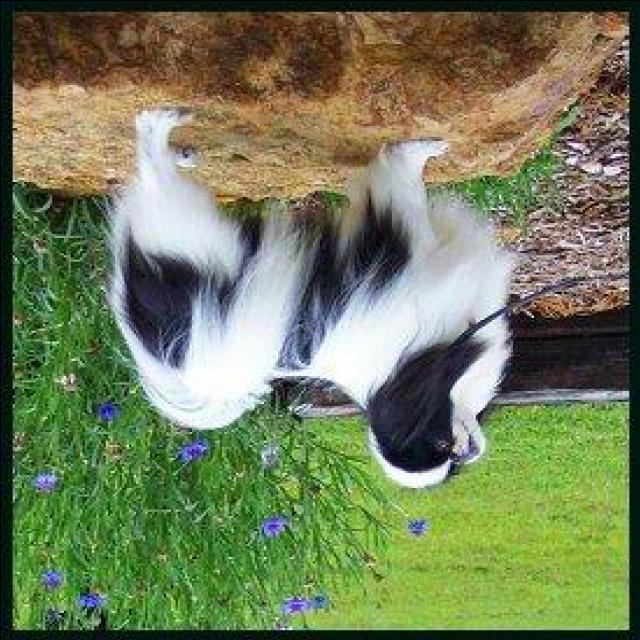husky: (91, 110, 512, 492)
